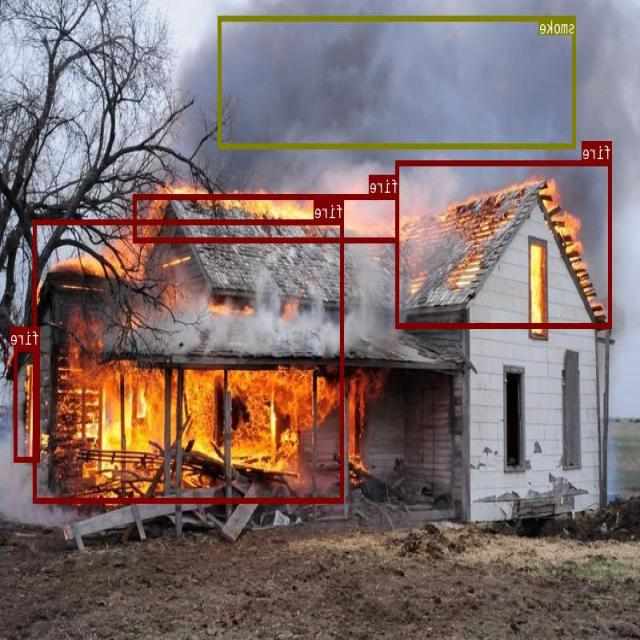fire: (34, 218, 344, 502), (397, 160, 612, 328), (134, 194, 400, 241), (15, 346, 40, 461)
smoke: (219, 15, 576, 148)
